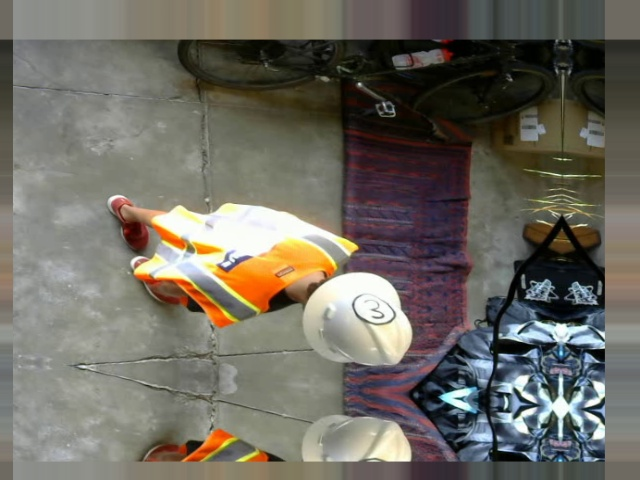three: (352, 290, 396, 326)
